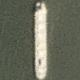ship: (0, 0, 17, 40)
